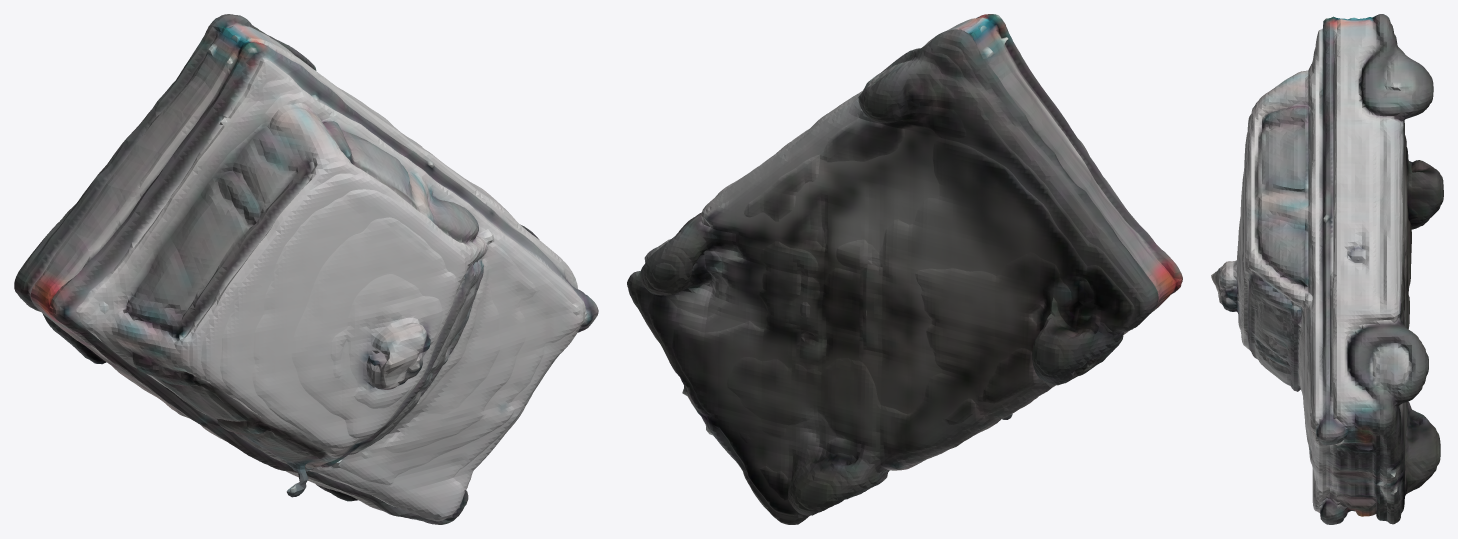
The model's file is taxi.glb.
The picture shows the model from 3 angles, left to right: view 1: azimuth 30°, elevation 25°; view 2: azimuth 150°, elevation 25°; view 3: azimuth 270°, elevation 25°; orthographic projection. The views are drawn at different scales.
Parts seen in each view (by area): view 1: geometry_0; view 2: geometry_0; view 3: geometry_0.
Part boxes in pixels (box(x1,y1,x2,y2)): geometry_0: box(14, 14, 598, 524); geometry_0: box(627, 14, 1182, 524); geometry_0: box(1211, 14, 1443, 524).
Bounding box in the file's own units: 0.9764 × 0.9273 × 0.4443.
